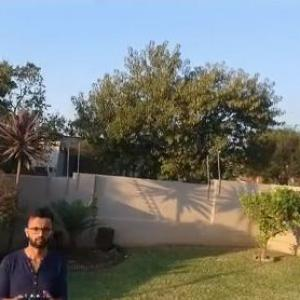follow: (0, 202, 74, 299)
